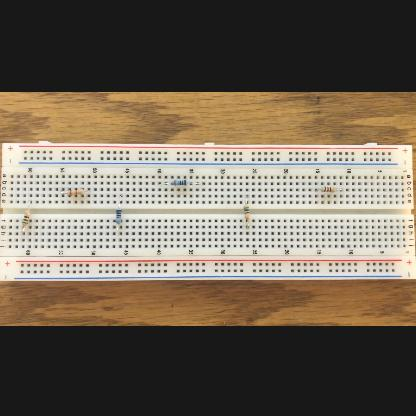resistor: (22, 209, 30, 226), (67, 187, 84, 194), (116, 207, 122, 223), (172, 179, 188, 185), (244, 204, 250, 218), (320, 186, 336, 190)
wire: (158, 180, 172, 184), (118, 194, 122, 206), (246, 218, 250, 228), (117, 223, 121, 233), (22, 226, 26, 234), (28, 200, 32, 208), (188, 181, 204, 183), (61, 188, 68, 192), (245, 195, 247, 203), (86, 188, 90, 192), (316, 188, 322, 190), (336, 188, 342, 190)
